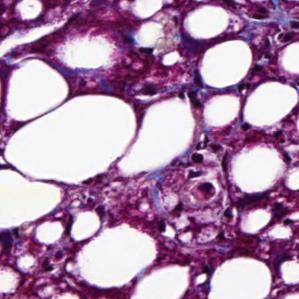inflammation: (240, 0, 299, 46), (177, 153, 228, 204), (154, 213, 216, 246)
